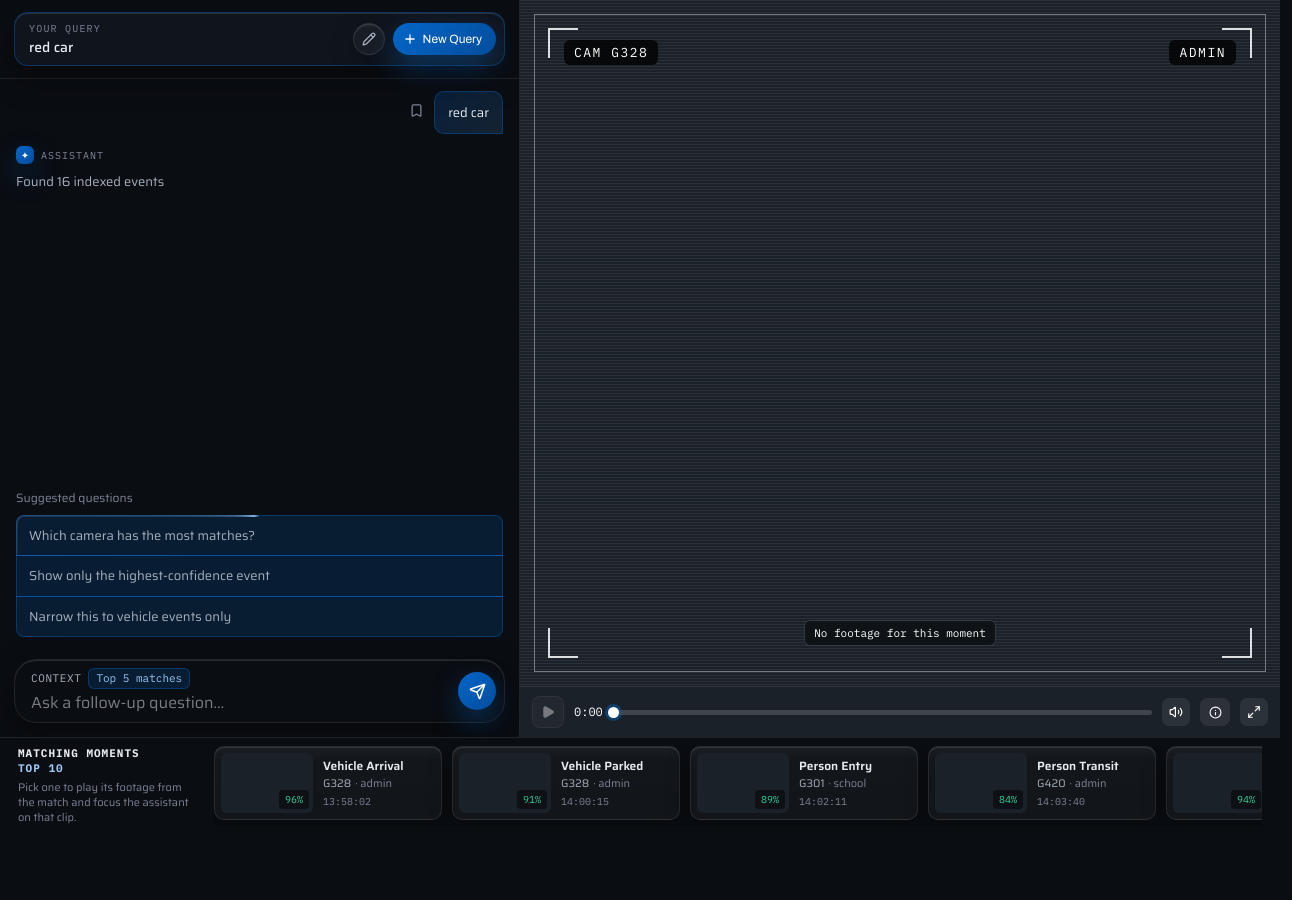
Test: Results › shows each moment's scene with its camera, and in the chunk metadata
The width and height of the screenshot is (1292, 900).
Click the button "96% Vehicle Arrival G328· admin 13:58:02".
click(328, 783)  # box 214,746 -> 442,820
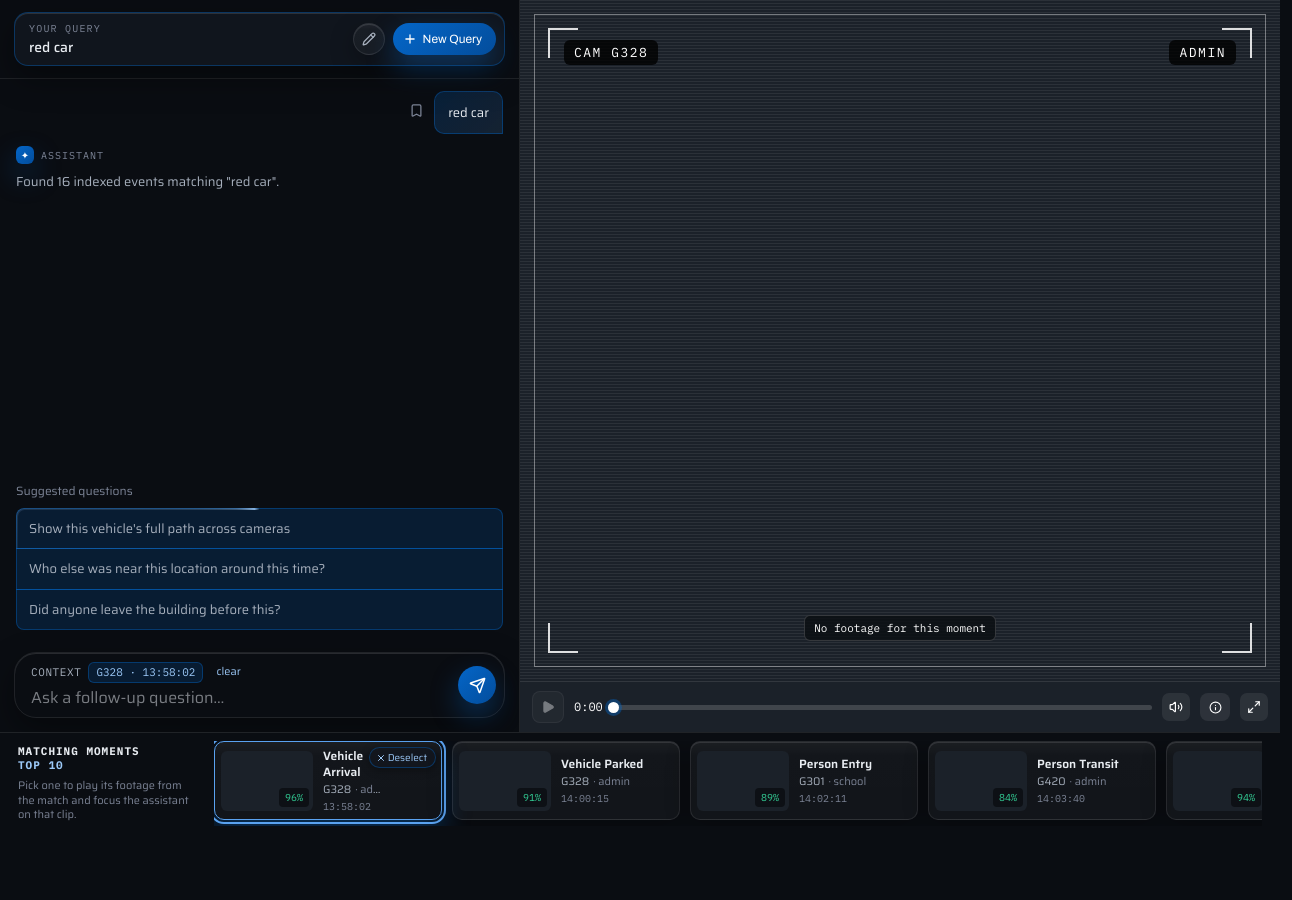
Click the button named "Show chunk metadata".
click(1215, 707)  # box 1200,693 -> 1230,721
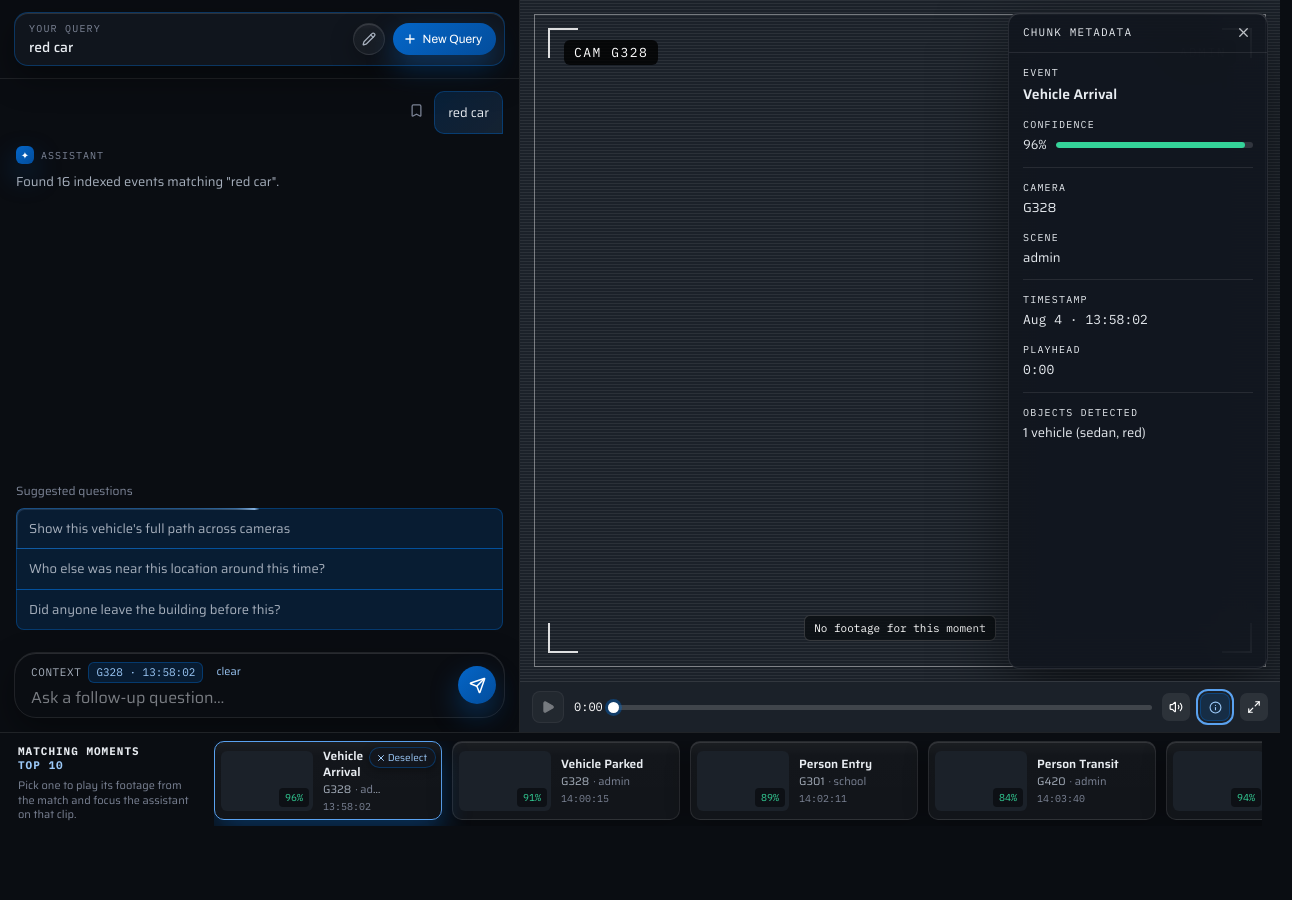
Check: the text "SCENE" is shown, box 1023,230 -> 1059,244
Check: the text "admin" is shown, box 1023,246 -> 1061,268
